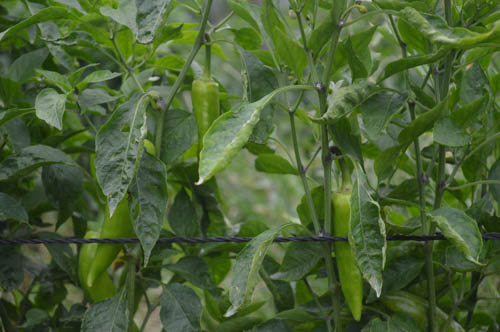ChiliPepper: (78, 196, 134, 285), (335, 195, 366, 320), (193, 82, 226, 150)
